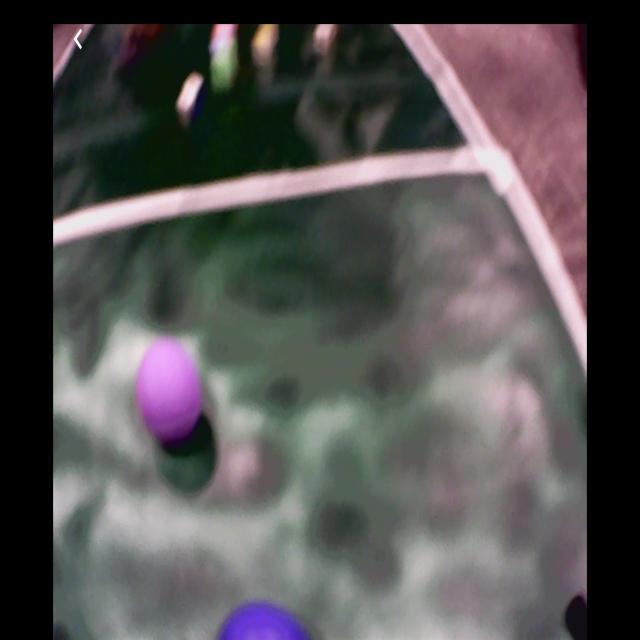ball: (138, 338, 199, 440), (214, 600, 317, 640)
